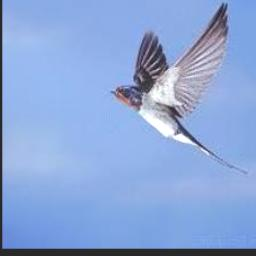Swallow: (112, 1, 248, 174)
